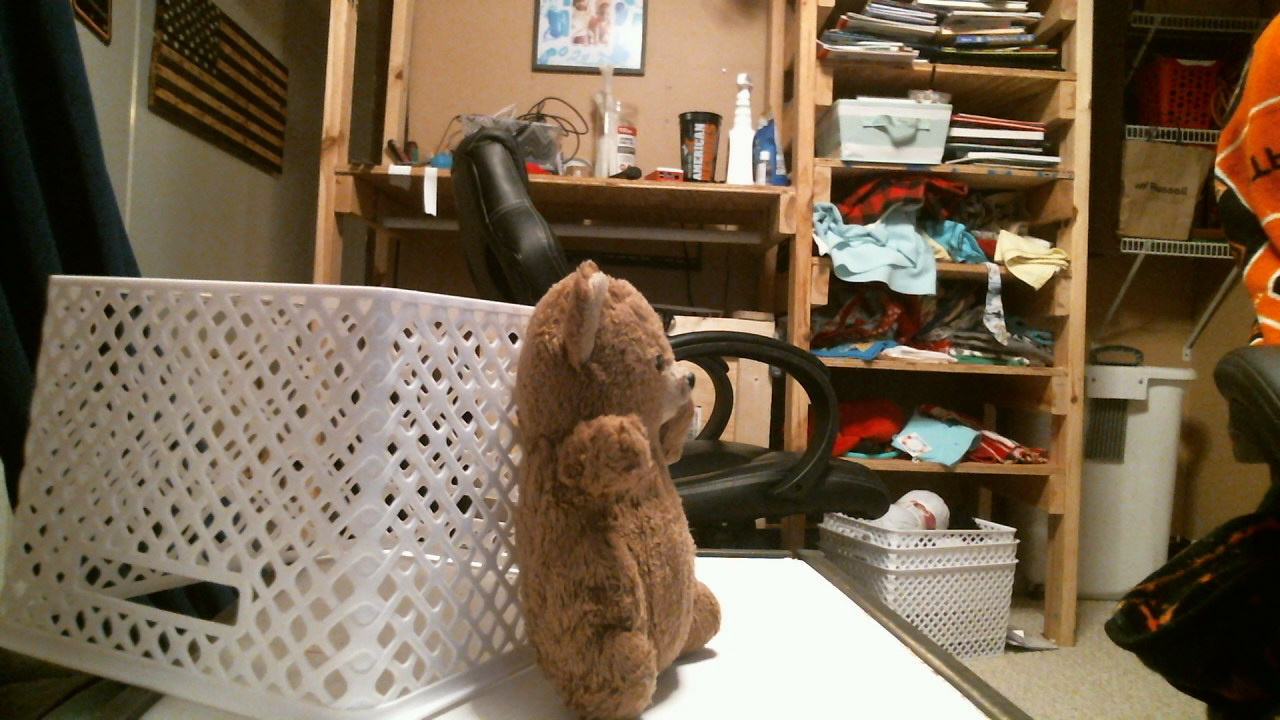Little_Mister_Bear: (625, 353, 701, 456)
